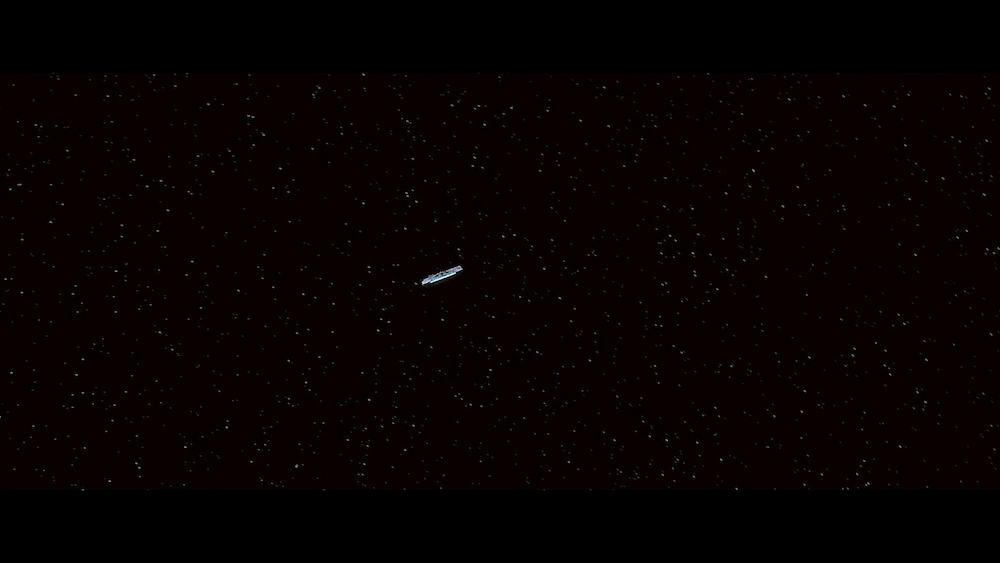Millennium Falcon: (423, 266, 464, 288)
